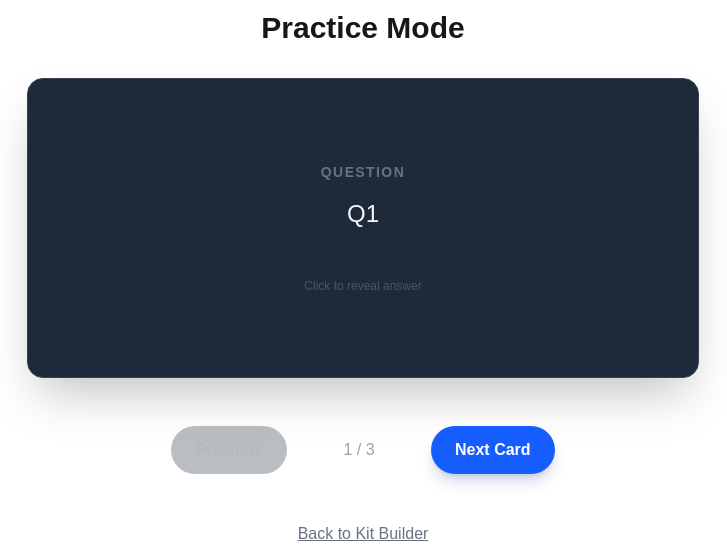
Practice Mode Tests › TEST 2: Reveal answer and show confidence
Expected: the text "Q1" is shown, [347,200,379,227]
# Click card to reveal
Click the element showing "Question Q1 Click to reveal answer": click(363, 228) [27,78,699,378]
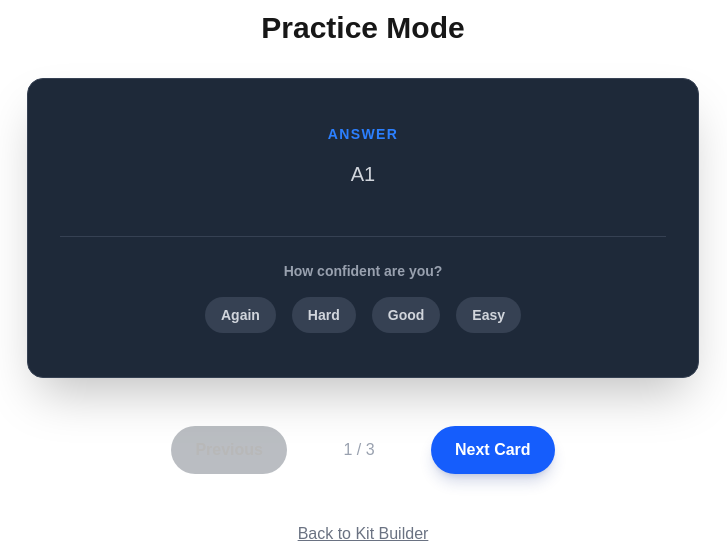
Result: the text "A1" is shown at [351,162,375,184]
Result: the text "How confident are you?" is shown at [284,262,442,278]
Result: the button "Again" is shown at [205,296,276,332]
